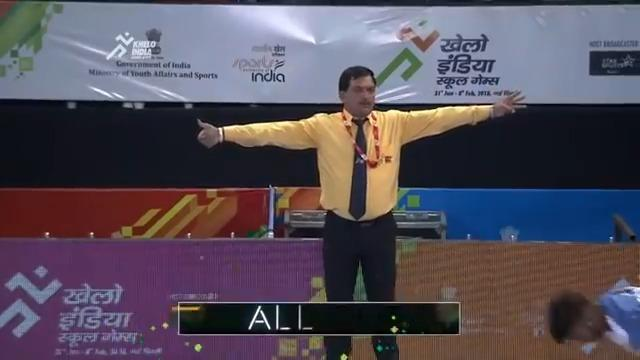Player: (546, 281, 639, 355)
referee: (195, 64, 527, 358)
